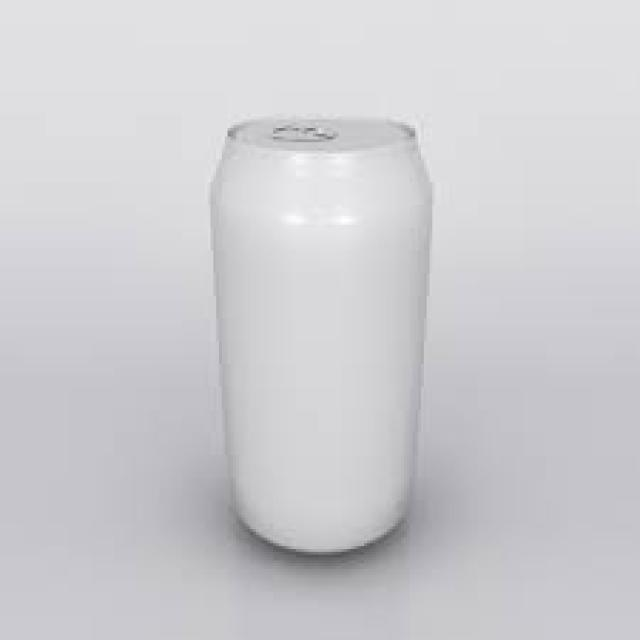metal: (211, 117, 430, 552)
